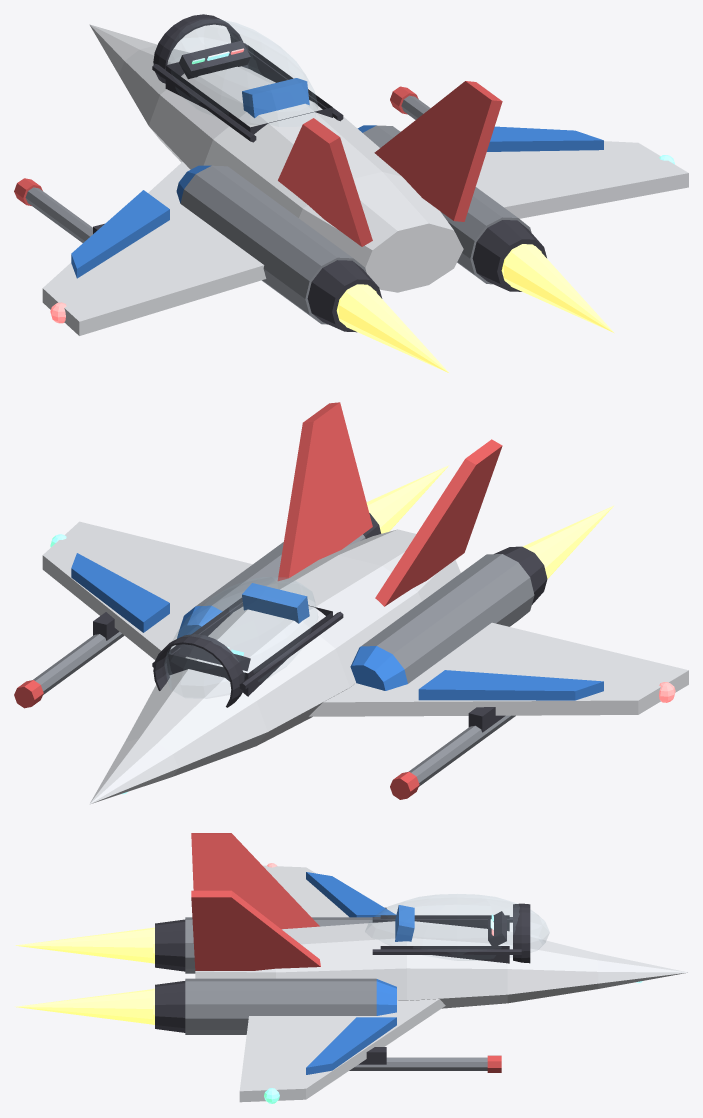
The model's file is ship.glb.
The picture shows the model from 3 angles, top to bottom: view 1: azimuth 30°, elevation 25°; view 2: azimuth 150°, elevation 25°; view 3: azimuth 270°, elevation 25°; orthographic projection. The views are drawn at different scales.
Parts seen in each view (by area): view 1: Fuselage, WingL, WingR, EngineL, FinR, FinL, WingStripeL, FlameL, FlameR, Canopy, EngineR, NozzleL (+8 smaller); view 2: Fuselage, WingL, WingR, FinR, EngineL, FinL, WingStripeL, WingStripeR, Canopy, CockpitTub, CanopyArch, EngineR (+11 smaller); view 3: Fuselage, WingR, EngineR, FinR, FinL, Canopy, FlameR, FlameL, WingStripeR, WingL, WingStripeL, GunR (+9 smaller).
Boxes of the visible parts, x1,y1,x2,y2 form: Fuselage: (89,24,463,292); WingL: (42,162,266,335); WingR: (400,131,688,218); EngineL: (180,165,366,324); FinR: (374,81,502,221); FinL: (278,118,372,246); WingStripeL: (71,190,169,278); FlameL: (339,285,448,372); FlameR: (504,245,613,332); Canopy: (168,19,317,108); EngineR: (363,125,531,284); NozzleL: (307,260,382,332); Fuselage: (89,529,460,804); WingL: (309,622,688,716); WingR: (42,521,252,659); FinR: (277,402,372,581); EngineL: (361,554,534,683); FinL: (375,439,502,606); WingStripeL: (418,670,603,700); WingStripeR: (71,553,169,632); Canopy: (164,577,317,689); CockpitTub: (166,597,332,696); CanopyArch: (153,634,244,707); EngineR: (196,534,365,611); Fuselage: (195,921,688,1008); WingR: (239,999,445,1102); EngineR: (185,978,376,1034); FinR: (191,890,320,970); FinL: (191,833,319,929); Canopy: (365,894,549,948); FlameR: (14,989,152,1024); FlameL: (15,928,152,963); WingStripeR: (306,1017,396,1074); WingL: (263,865,348,917); WingStripeL: (306,872,395,917); GunR: (349,1057,487,1070).
Size of the model in its own units: 5.44 by 1.54 by 6.7.
